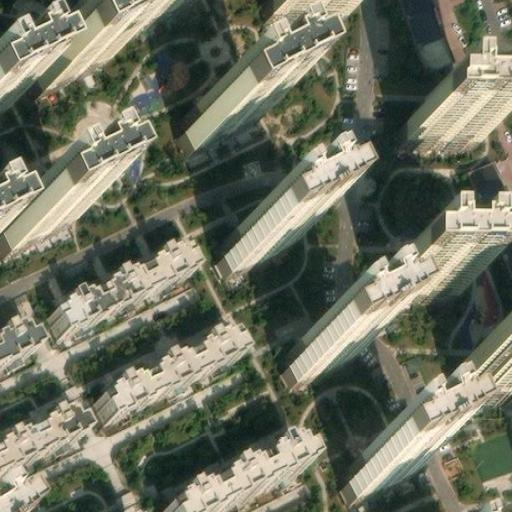building: (47, 245, 191, 336), (86, 338, 230, 426), (161, 438, 302, 512), (26, 21, 111, 91), (180, 77, 262, 146), (0, 181, 73, 244), (283, 315, 358, 373), (220, 203, 294, 261), (0, 411, 72, 470), (341, 435, 415, 492), (391, 245, 469, 289), (405, 99, 482, 140), (400, 0, 451, 60), (266, 0, 339, 18), (125, 0, 175, 22), (0, 331, 25, 364)
